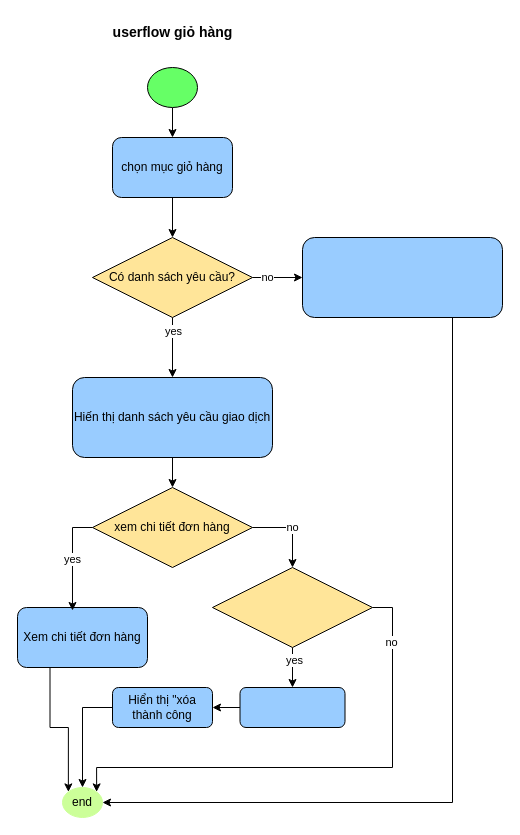
This 520x835 diagram has some shape labels left out. The box of each missing label's shape, as (x1, y1, x2, y2) in pixels:
Bấm nút "xóa đơn hàng": (239, 686, 345, 728)
Hiển thị "không có dach sách yêu cầu": (302, 236, 502, 318)
start: (146, 66, 198, 108)
Xóa đơn hàng: (212, 566, 372, 648)
